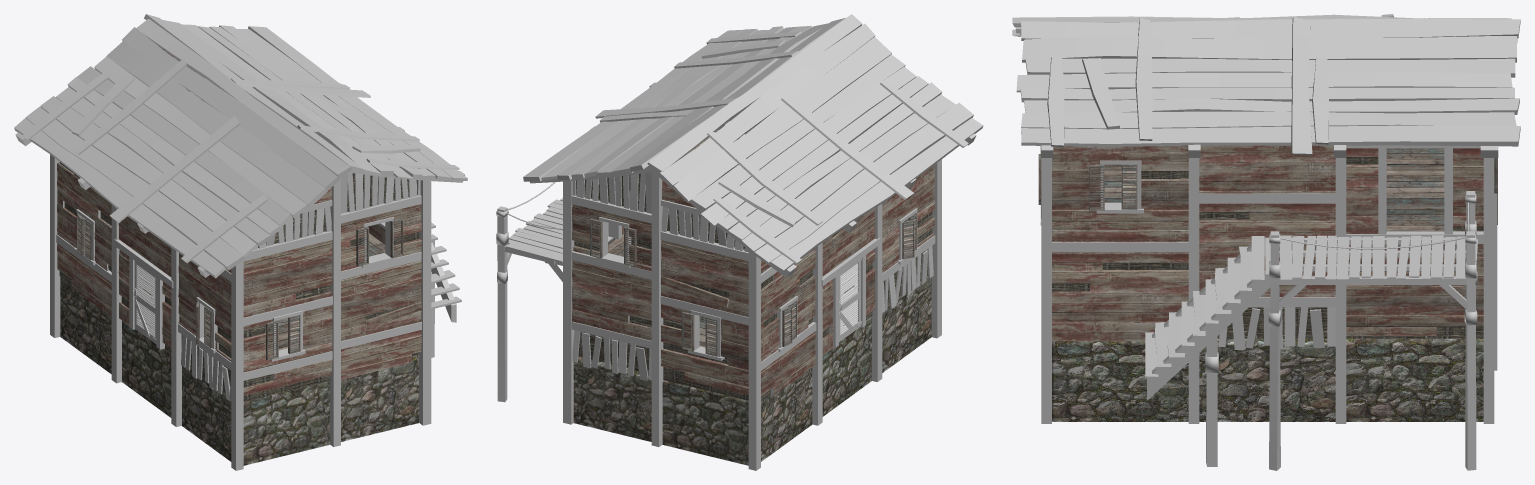
Rendered from House10.fbx.
The picture shows the model from 3 angles, left to right: view 1: azimuth 30°, elevation 25°; view 2: azimuth 150°, elevation 25°; view 3: azimuth 270°, elevation 25°; orthographic projection. The views are drawn at different scales.
Visible parts, largest first — view 1: Roof, Base, Floor, Windows, Stairs, Doors; view 2: Roof, Base, Floor, Stairs, Windows, Doors; view 3: Base, Roof, Floor, Stairs, Windows.
Boxes of the visible parts, x1,y1,x2,y2 form: Roof: (14, 14, 467, 278); Base: (50, 46, 431, 470); Floor: (60, 277, 418, 465); Windows: (74, 209, 403, 361); Stairs: (431, 222, 461, 357); Doors: (133, 261, 156, 343); Roof: (523, 14, 983, 278); Base: (563, 116, 941, 470); Floor: (573, 276, 931, 465); Stairs: (496, 182, 608, 402); Windows: (590, 208, 919, 360); Doors: (839, 258, 861, 341); Base: (1041, 105, 1497, 423); Roof: (1012, 14, 1520, 157); Floor: (1052, 338, 1483, 421); Stairs: (1145, 191, 1477, 470); Windows: (1038, 146, 1497, 225).
Bounding box in the file's own units: 10.72 × 9.4 × 12.16.
